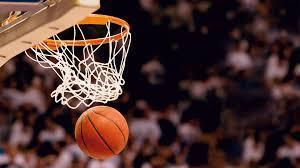ball: (74, 104, 130, 160)
rim: (24, 12, 132, 110)
